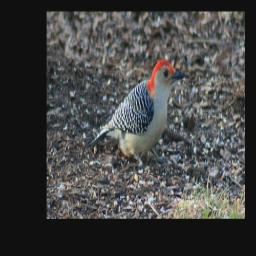Woodpecker: (92, 60, 188, 176)
